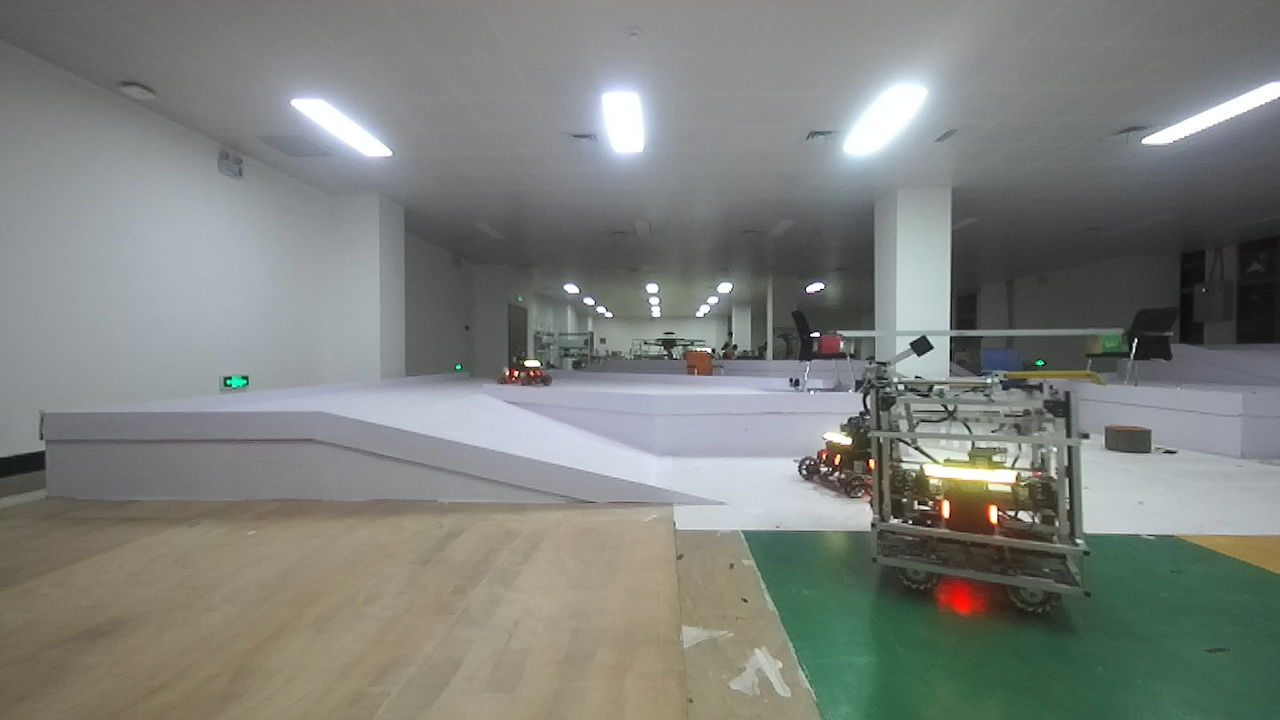car: (863, 362, 1099, 633), (805, 411, 886, 497), (498, 360, 555, 393)
